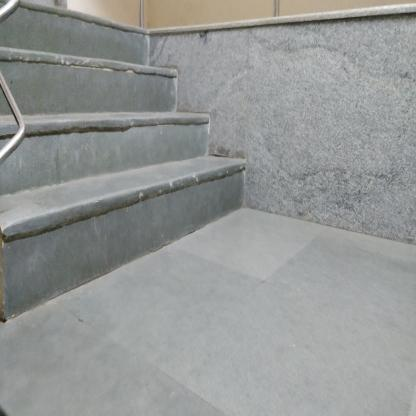stairs: (39, 65, 179, 302)
